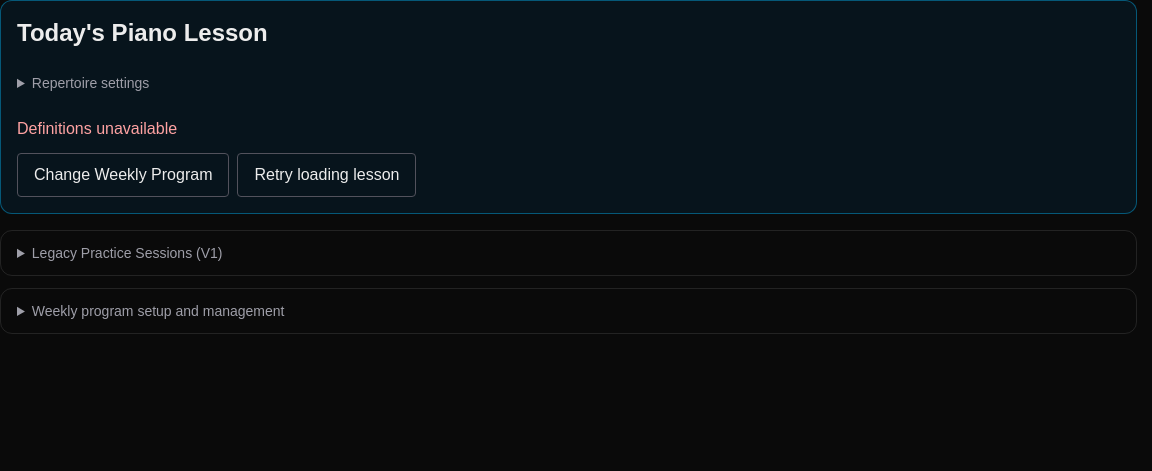
Test: one-action morning launch through the existing V2 owner › reports unavailable definitions and allows an explicit retry
Expected: the message "Definitions unavailable" is shown, [17,120,177,137]
Click the button "Retry loading lesson".
click(327, 175)  # box [238,153,416,197]
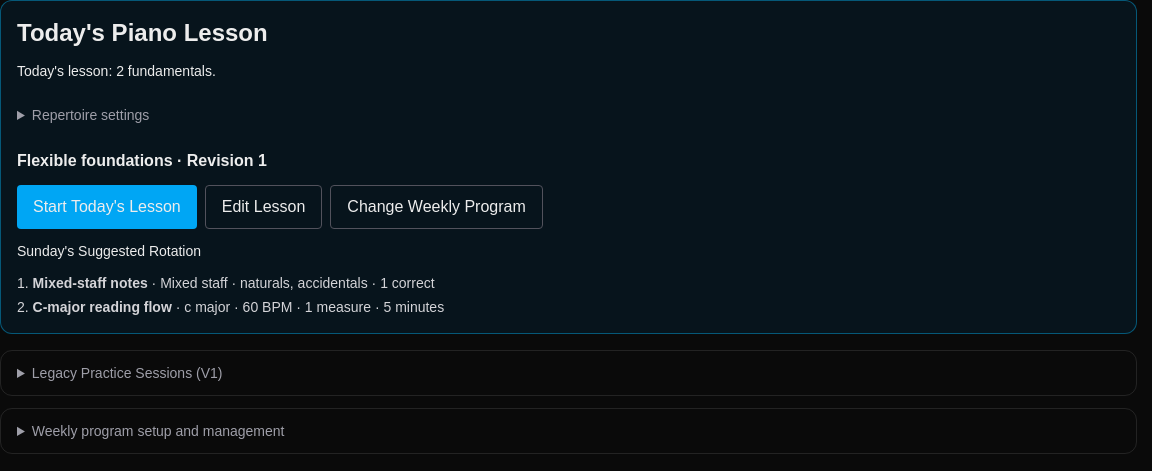
Now the button "Start Today's Lesson" is enabled, box [17,185,197,229]
